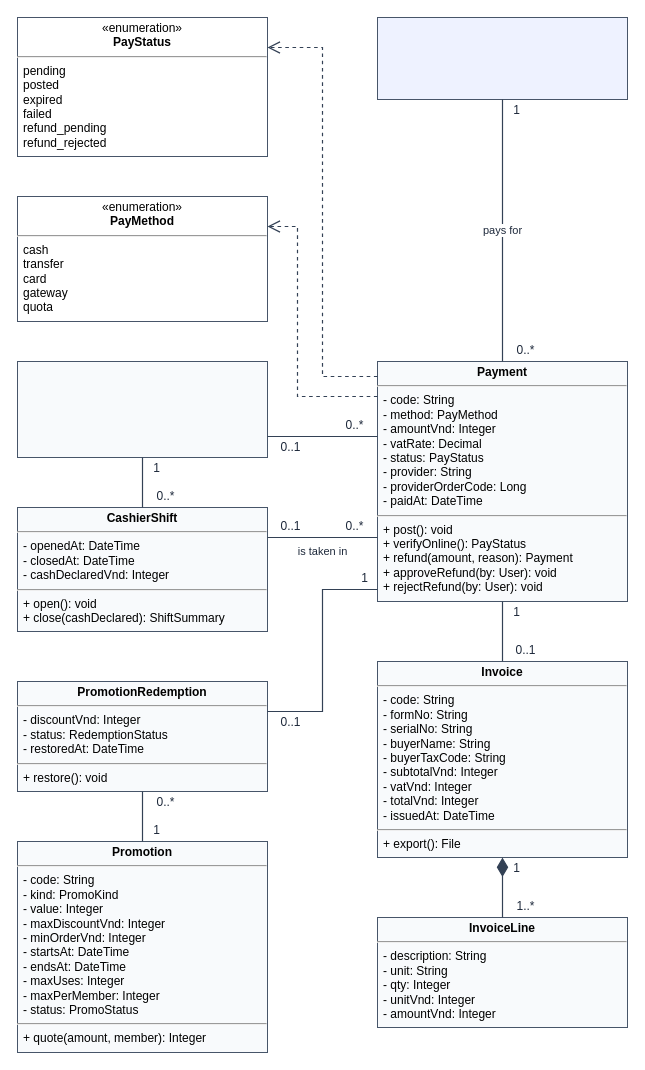
The diagram is 645 pixels wide and 1070 high, and some of its shapes have lost their labels. The shapes that lost their labels are listed below. From the top down, each one's box as (x1, y1, x2, y2) in pixels, then its label:
(376, 16, 628, 100): «interface» Payable + amountDue(): Integer + settle(payment: Payment): void
(16, 360, 268, 458): User - memberCode: String - fullName: String - phone: String - role: UserRole
